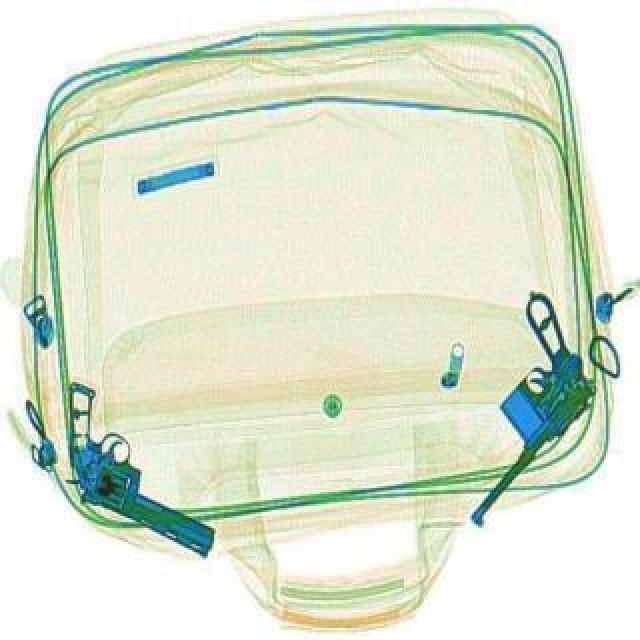gun: (380, 284, 630, 526), (16, 374, 258, 560)
